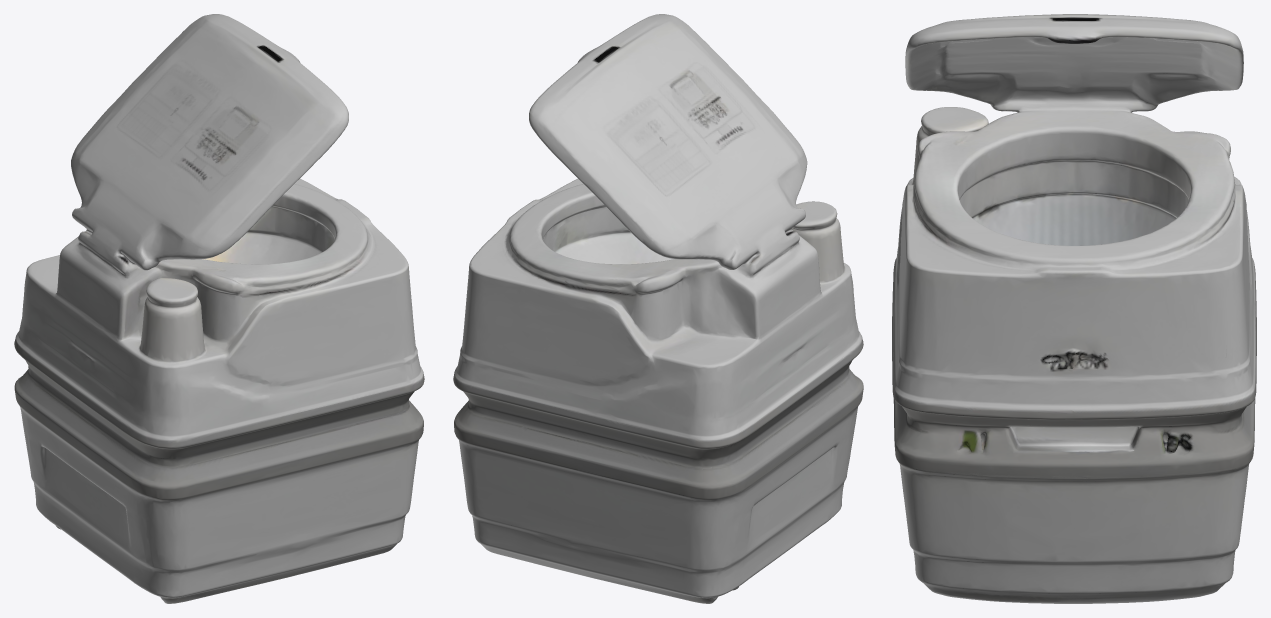
The model's file is Portable-toilet2.glb.
3 renders of one model, left to right at view 1: azimuth 30°, elevation 25°; view 2: azimuth 150°, elevation 25°; view 3: azimuth 270°, elevation 25°, orthographic. The views are drawn at different scales.
Visible parts, largest first — view 1: tripo_node_d6cb2fab-cbec-4747-90b1-a0585fc2f229; view 2: tripo_node_d6cb2fab-cbec-4747-90b1-a0585fc2f229; view 3: tripo_node_d6cb2fab-cbec-4747-90b1-a0585fc2f229.
Part boxes in pixels (x1,y1,x2,y2): tripo_node_d6cb2fab-cbec-4747-90b1-a0585fc2f229: (14,14,424,603); tripo_node_d6cb2fab-cbec-4747-90b1-a0585fc2f229: (453,14,863,603); tripo_node_d6cb2fab-cbec-4747-90b1-a0585fc2f229: (892,14,1256,603).
Size of the model in its own units: 0.5727 by 0.9482 by 0.5294.
Materials: 1 (1 with a texture image).
